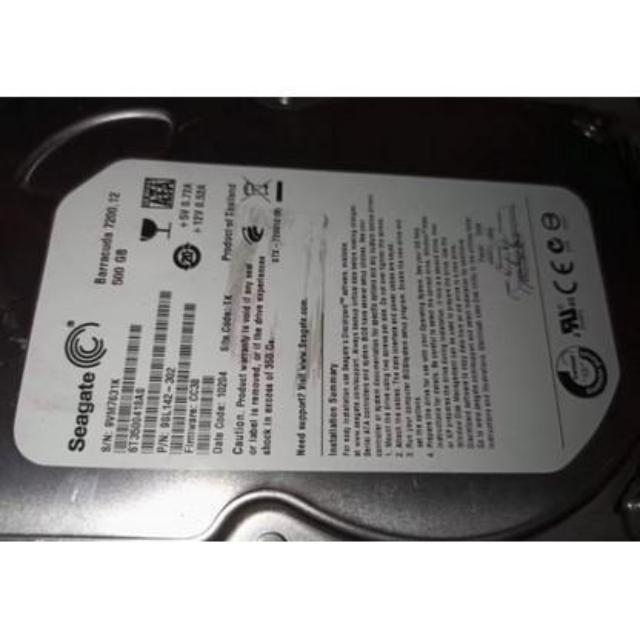DISK: (0, 145, 640, 543)
